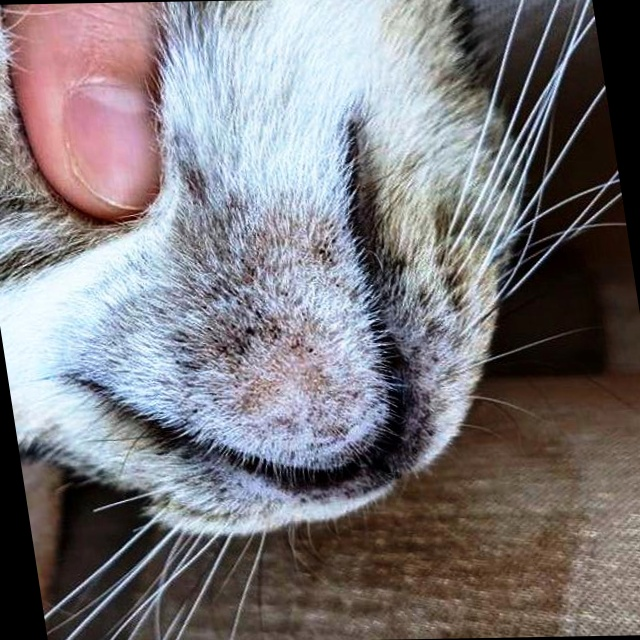acne: (144, 196, 373, 428)
